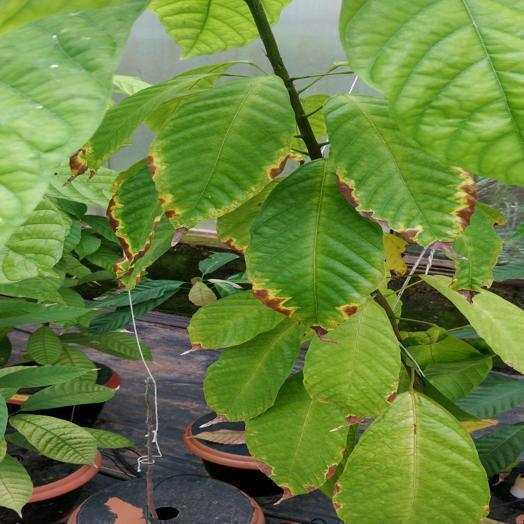Potassium: (245, 160, 382, 333), (324, 94, 475, 246), (148, 76, 294, 227), (245, 372, 348, 504), (304, 300, 399, 428), (107, 160, 173, 288)
